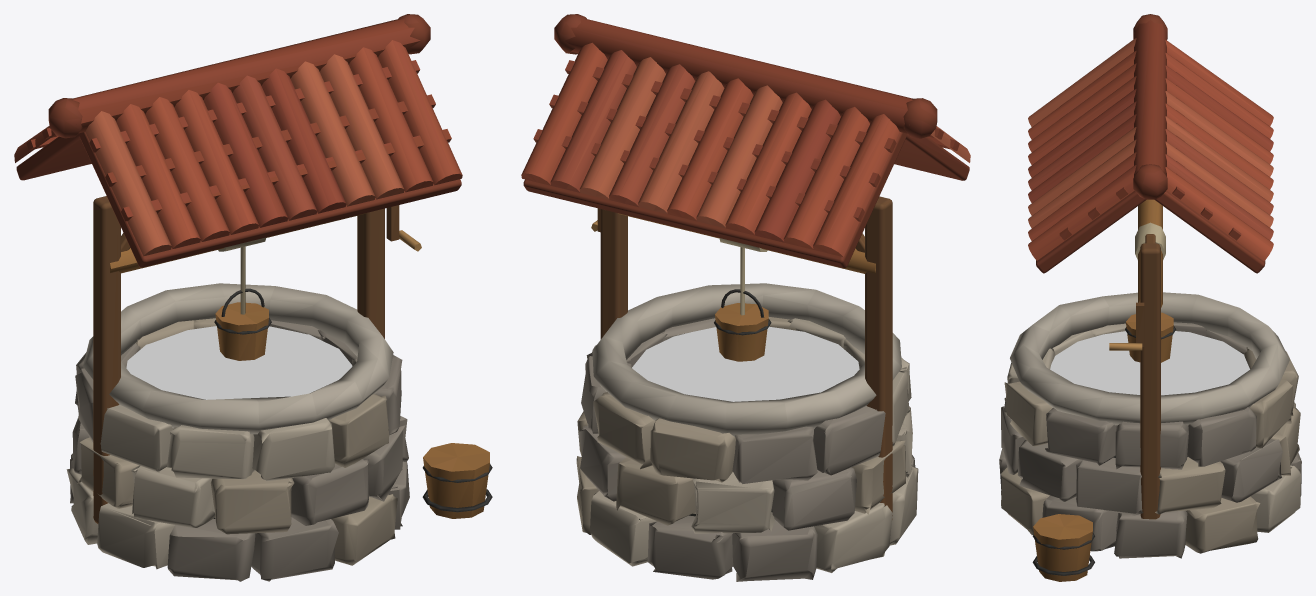
File: g3d-well.glb
3 renders of one model, left to right at view 1: azimuth 30°, elevation 25°; view 2: azimuth 150°, elevation 25°; view 3: azimuth 270°, elevation 25°, orthographic. The views are drawn at different scales.
Visible parts, largest first — view 1: well-kit, well-flat-3f7390; view 2: well-kit, well-flat-3f7390; view 3: well-kit, well-flat-3f7390.
Boxes of the visible parts, x1,y1,x2,y2 form: well-kit: (14, 14, 492, 581); well-flat-3f7390: (126, 326, 352, 399); well-kit: (521, 14, 970, 581); well-flat-3f7390: (632, 326, 859, 401); well-kit: (999, 14, 1301, 581); well-flat-3f7390: (1050, 331, 1249, 395).
Size of the model in its own units: 1.95 by 2.19 by 1.47.
